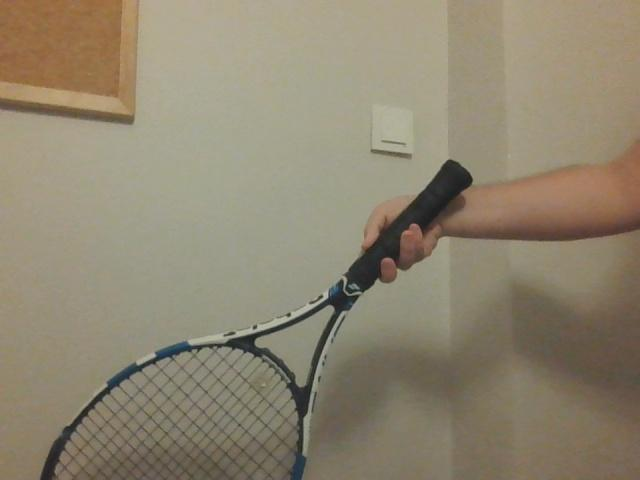Tennis-Racket: (43, 161, 469, 480)
